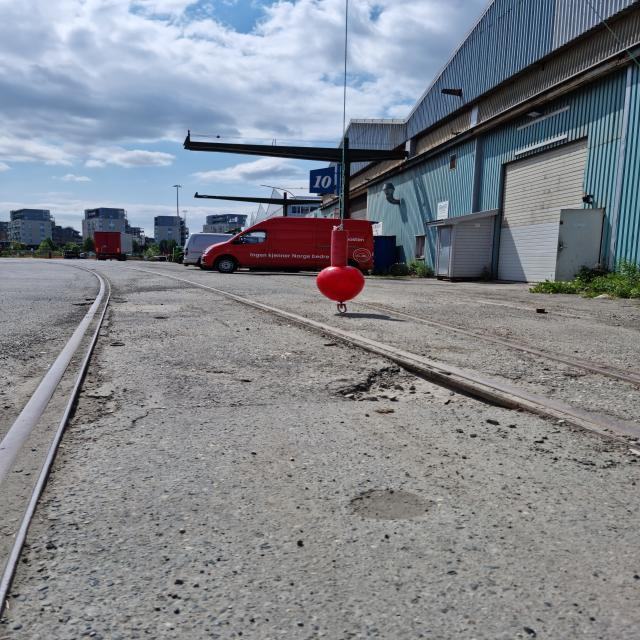red: (317, 229, 365, 301)
